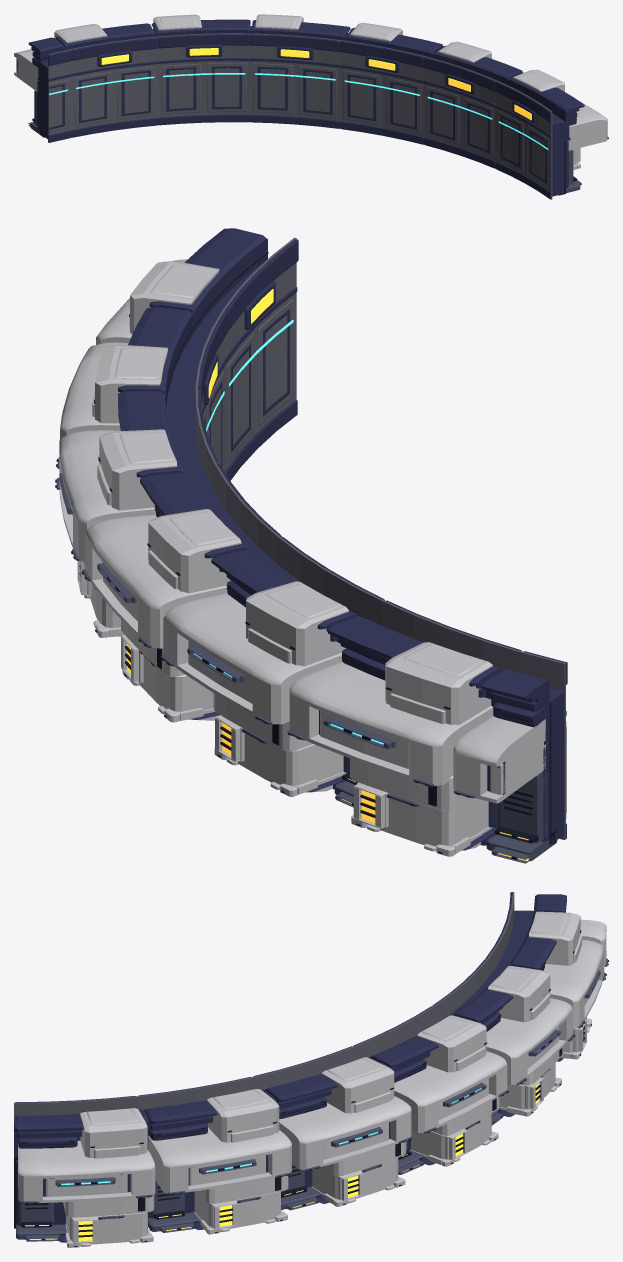
Rendered from hull.arc4.b.glb.
3 views of the same model, one above another, from view 1: azimuth 30°, elevation 25°; view 2: azimuth 150°, elevation 25°; view 3: azimuth 270°, elevation 25° (orthographic). The views are drawn at different scales.
Parts seen in each view (by area): view 1: GEO-hull.arc4.b; view 2: GEO-hull.arc4.b; view 3: GEO-hull.arc4.b.
Part boxes in pixels (x1=…): GEO-hull.arc4.b: x1=14, y1=14, x2=608, y2=199; GEO-hull.arc4.b: x1=55, y1=228, x2=567, y2=863; GEO-hull.arc4.b: x1=14, y1=892, x2=608, y2=1247.
Bounding box in the file's own units: 4.52 × 1 × 4.52.
